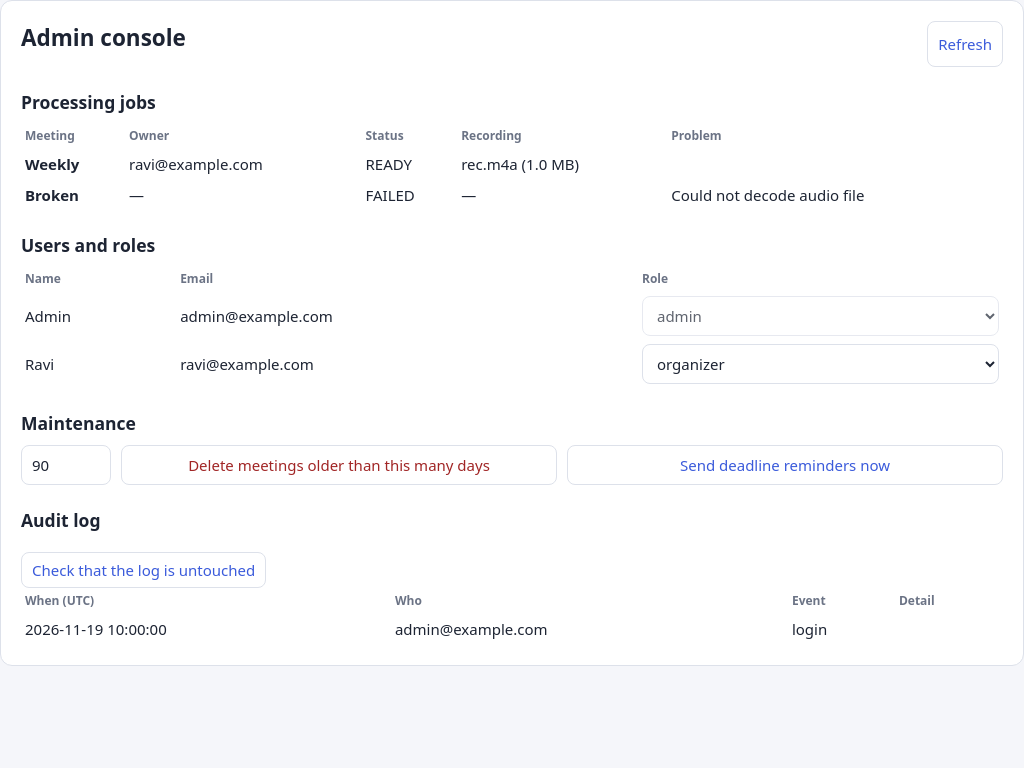
Test: AdminConsole › checks the audit log and reports tampering
Click the button "Check that the log is untouched".
click(144, 570)  # box [21, 552, 266, 588]
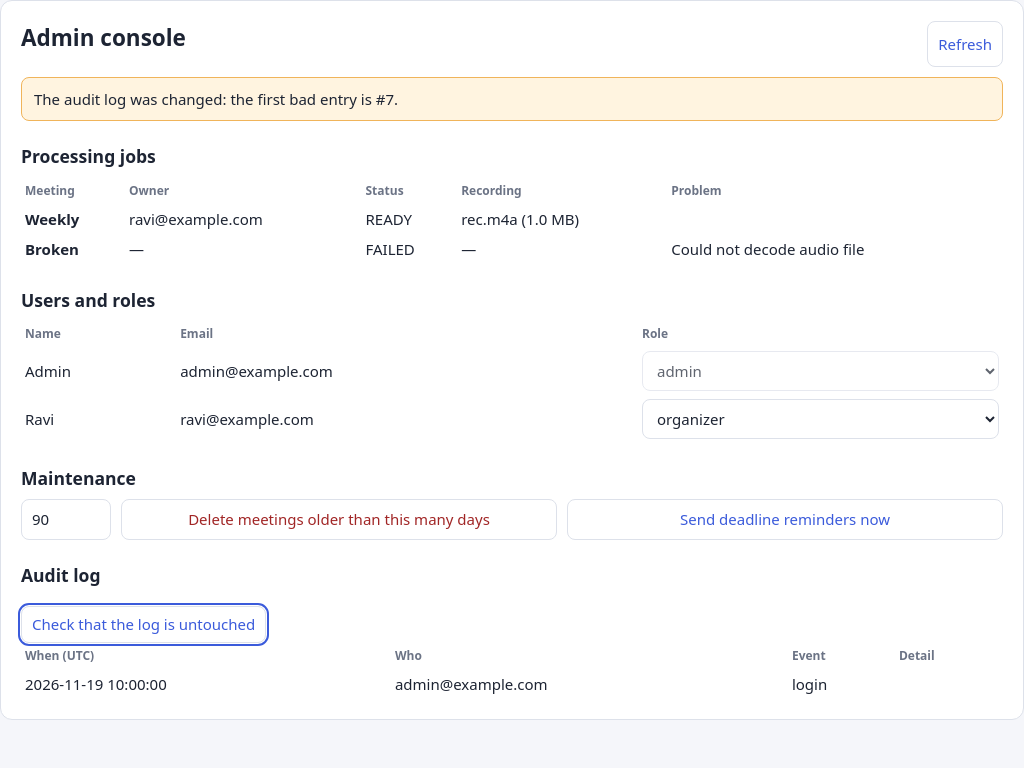
Result: the message shows "first bad entry is #7" at [34, 89, 398, 109]
